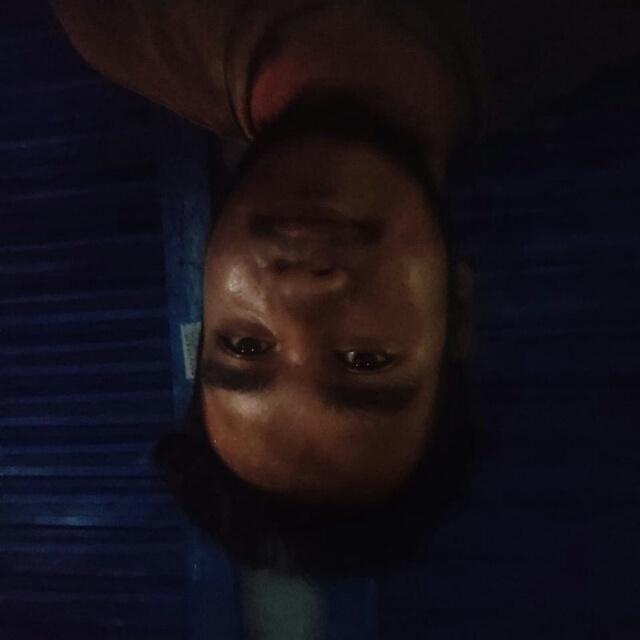Natural: (180, 125, 452, 562)
